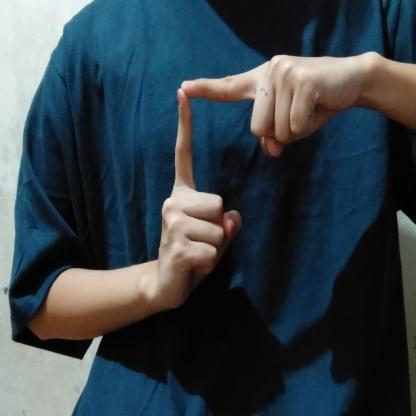when: (146, 45, 380, 322)
